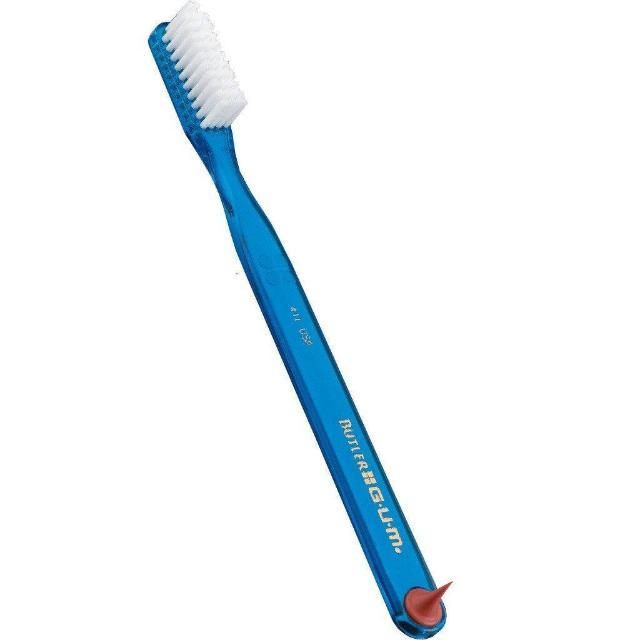toothbrush: (96, 8, 338, 334)
